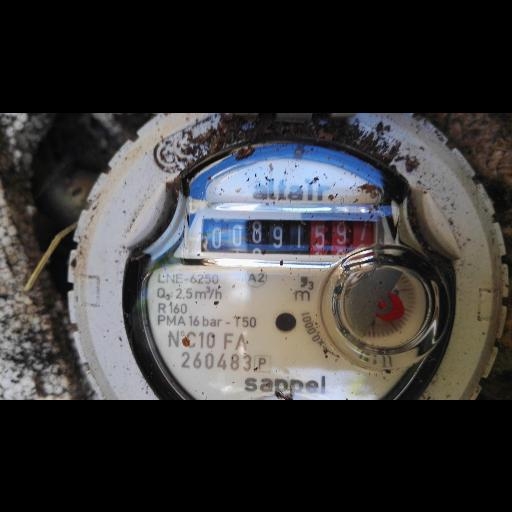0: (226, 218, 248, 252), (207, 218, 227, 252)
1: (287, 219, 309, 254)
5: (309, 220, 330, 255)
7: (353, 220, 375, 250)
8: (246, 219, 268, 254)
9: (330, 219, 355, 255), (268, 219, 289, 254)
border_water_meter_number: (195, 210, 381, 262)
